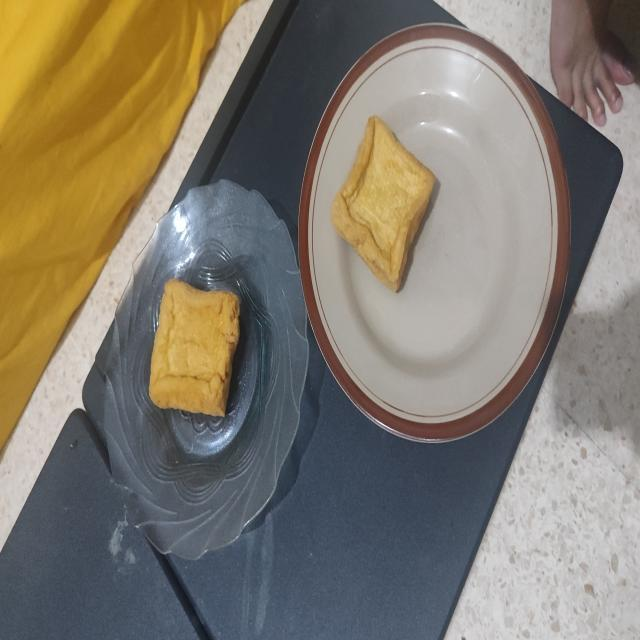tahu_goreng: (331, 116, 436, 291), (149, 279, 240, 416)
